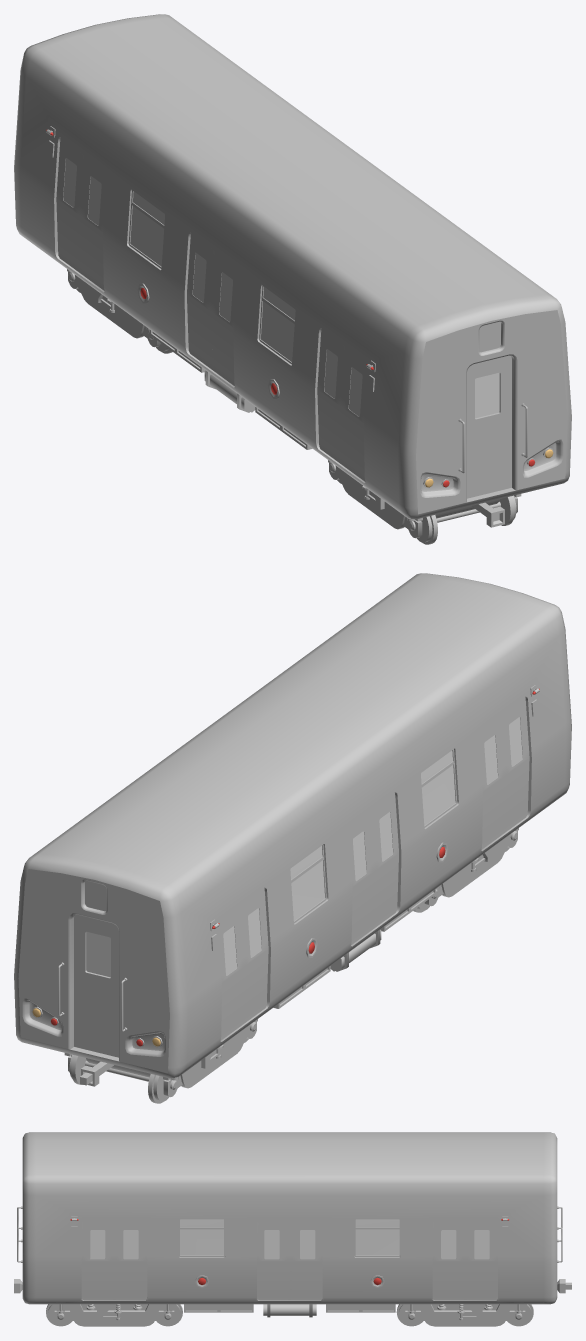
The model's file is SM_Vehilces_Metro_01.fbx.
3 views of the same model, one above another, from view 1: azimuth 30°, elevation 25°; view 2: azimuth 150°, elevation 25°; view 3: azimuth 270°, elevation 25° (orthographic). The views are drawn at different scales.
Parts seen in each view (by area): view 1: SM_Vehilces_Metro_01, SM_Vehilces_Metro_01_Door_13, SM_Vehilces_Metro_01_Door_4, SM_Vehilces_Metro_01_Door_12, SM_Vehilces_Metro_01_Door_8, SM_Vehilces_Metro_01_Door_11, SM_Vehilces_Metro_01_Door_7, SM_Vehilces_Metro_01_Door_3; view 2: SM_Vehilces_Metro_01, SM_Vehilces_Metro_01_Door_14, SM_Vehilces_Metro_01_Door_11, SM_Vehilces_Metro_01_Door_3, SM_Vehilces_Metro_01_Door_7, SM_Vehilces_Metro_01_Door_4, SM_Vehilces_Metro_01_Door_8, SM_Vehilces_Metro_01_Door_12; view 3: SM_Vehilces_Metro_01, SM_Vehilces_Metro_01_Door_1, SM_Vehilces_Metro_01_Door_9, SM_Vehilces_Metro_01_Door_2, SM_Vehilces_Metro_01_Door_10, SM_Vehilces_Metro_01_Door_5, SM_Vehilces_Metro_01_Door_6.
Part boxes in pixels (box(x1,y1,x2,y2)): SM_Vehilces_Metro_01: box(14, 14, 571, 544); SM_Vehilces_Metro_01_Door_13: box(467, 355, 511, 498); SM_Vehilces_Metro_01_Door_4: box(317, 329, 345, 465); SM_Vehilces_Metro_01_Door_12: box(56, 138, 84, 274); SM_Vehilces_Metro_01_Door_8: box(187, 233, 215, 369); SM_Vehilces_Metro_01_Door_11: box(80, 155, 106, 290); SM_Vehilces_Metro_01_Door_7: box(211, 251, 237, 386); SM_Vehilces_Metro_01_Door_3: box(341, 346, 367, 481); SM_Vehilces_Metro_01: box(14, 573, 571, 1103); SM_Vehilces_Metro_01_Door_14: box(74, 914, 118, 1057); SM_Vehilces_Metro_01_Door_11: box(240, 888, 268, 1024); SM_Vehilces_Metro_01_Door_3: box(501, 697, 529, 833); SM_Vehilces_Metro_01_Door_7: box(370, 792, 398, 928); SM_Vehilces_Metro_01_Door_4: box(479, 714, 505, 849); SM_Vehilces_Metro_01_Door_8: box(348, 810, 374, 945); SM_Vehilces_Metro_01_Door_12: box(218, 905, 244, 1040); SM_Vehilces_Metro_01: box(14, 1132, 571, 1326); SM_Vehilces_Metro_01_Door_1: box(81, 1218, 114, 1300); SM_Vehilces_Metro_01_Door_9: box(432, 1218, 465, 1300); SM_Vehilces_Metro_01_Door_2: box(114, 1218, 147, 1300); SM_Vehilces_Metro_01_Door_10: box(465, 1218, 497, 1300); SM_Vehilces_Metro_01_Door_5: box(257, 1218, 289, 1300); SM_Vehilces_Metro_01_Door_6: box(290, 1218, 322, 1300).
Size of the model in its own units: 3.02 by 4.13 by 12.82.
